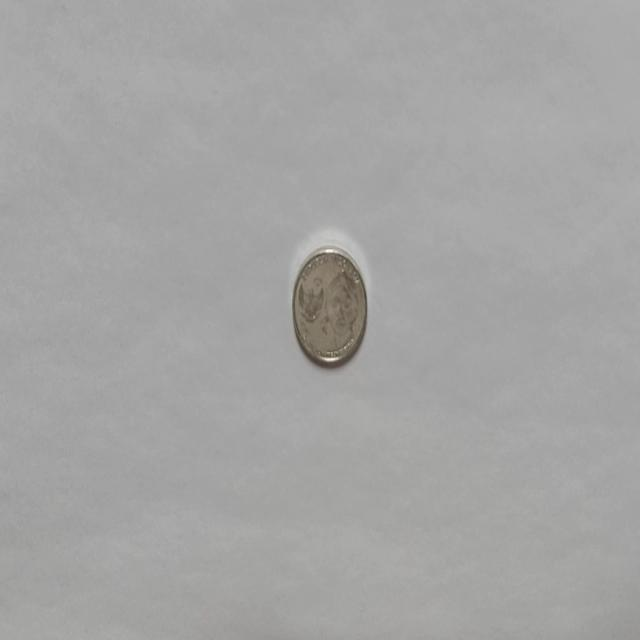dua ratus rupiah: (290, 244, 368, 368)
